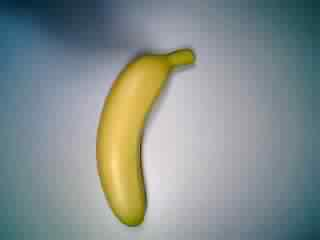banana: (93, 48, 195, 228)
